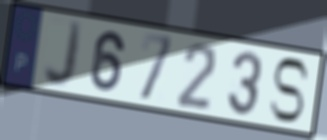2: (175, 41, 221, 114)
3: (224, 48, 263, 118)
6: (89, 28, 127, 94)
7: (139, 29, 174, 105)
J: (41, 18, 86, 91)
S: (267, 55, 312, 125)
